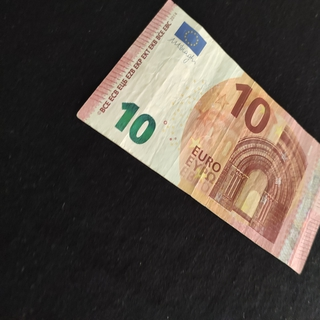10EUROFront: (76, 0, 320, 274)
